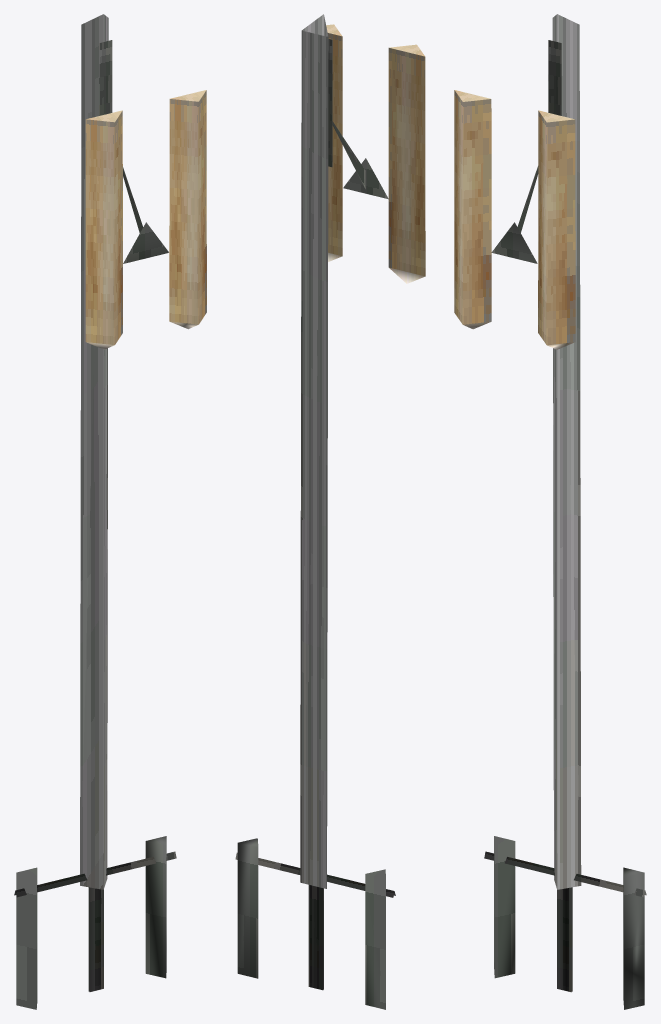
The model's file is frn_all_streetlamp_lg_s1_l3.fbx.
The picture shows the model from 3 angles, left to right: view 1: azimuth 30°, elevation 25°; view 2: azimuth 150°, elevation 25°; view 3: azimuth 330°, elevation 25°; orthographic projection.
Visible parts, largest first — view 1: mesh_node; view 2: mesh_node; view 3: mesh_node.
Part boxes in pixels (box(x1,y1,x2,y2)): mesh_node: box(14, 14, 206, 1009); mesh_node: box(235, 14, 425, 1009); mesh_node: box(454, 14, 646, 1009).
Size of the model in its own units: 0.6918 by 4.06 by 0.4873.
